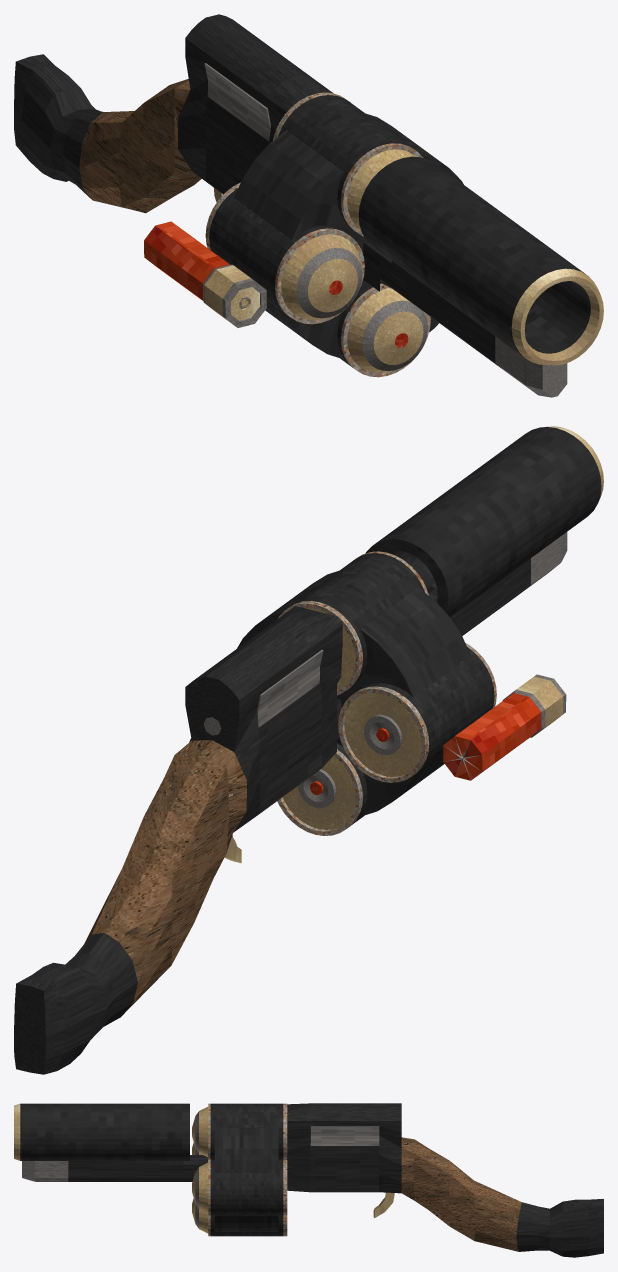
The model's file is RotaryGrenLauncher.fbx.
3 renders of one model, top to bottom at view 1: azimuth 30°, elevation 25°; view 2: azimuth 150°, elevation 25°; view 3: azimuth 270°, elevation 25°, orthographic. The views are drawn at different scales.
Parts seen in each view (by area): view 1: Frame, G.Barrel, Rotary, Cube.004, G.Shell 4, G.Shell 3, Flap.R, G.Shell 1; view 2: Frame, Rotary, G.Barrel, Cube.004, G.Shell 4, G.Shell 3, Flap.R; view 3: Frame, Rotary, G.Barrel, Flap.L, G.Shell 2, G.Shell 1, G.Shell 3, G.Trigger.
Boxes of the visible parts, bbox=[...] form: Frame: bbox=[14, 14, 567, 397]; G.Barrel: bbox=[358, 156, 603, 365]; Rotary: bbox=[205, 92, 463, 377]; Cube.004: bbox=[144, 221, 266, 327]; G.Shell 4: bbox=[281, 234, 362, 319]; G.Shell 3: bbox=[347, 288, 427, 372]; Flap.R: bbox=[204, 63, 270, 140]; G.Shell 1: bbox=[347, 149, 415, 229]; Frame: bbox=[14, 532, 567, 1074]; Rotary: bbox=[237, 551, 496, 835]; G.Barrel: bbox=[365, 426, 603, 616]; Cube.004: bbox=[443, 674, 566, 780]; G.Shell 4: bbox=[344, 693, 421, 776]; G.Shell 3: bbox=[282, 756, 355, 829]; Flap.R: bbox=[257, 650, 323, 727]; Frame: bbox=[22, 1103, 603, 1257]; Rotary: bbox=[208, 1103, 287, 1236]; G.Barrel: bbox=[14, 1103, 189, 1160]; Flap.L: bbox=[310, 1126, 379, 1145]; G.Shell 2: bbox=[192, 1162, 208, 1212]; G.Shell 1: bbox=[192, 1107, 208, 1156]; G.Shell 3: bbox=[192, 1198, 208, 1233]; G.Trigger: bbox=[373, 1192, 394, 1217].
Size of the model in its own units: 50.21 by 46.55 by 165.
8 materials, 7 textured.
